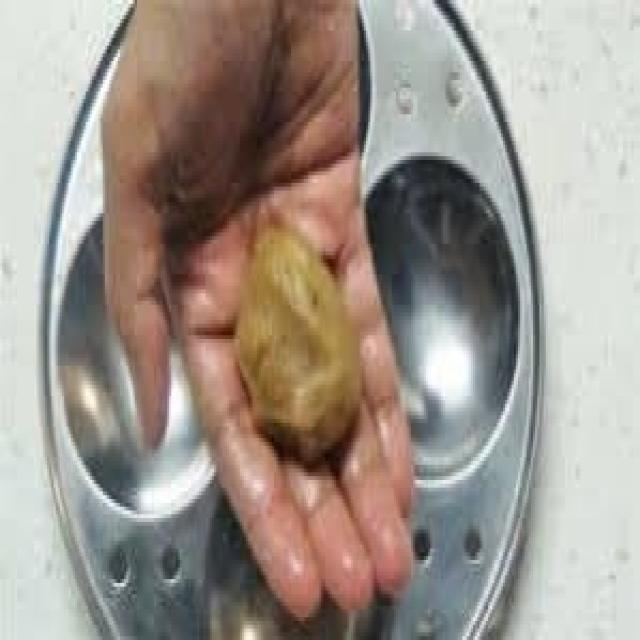pidi kolukattai: (230, 217, 351, 459)
